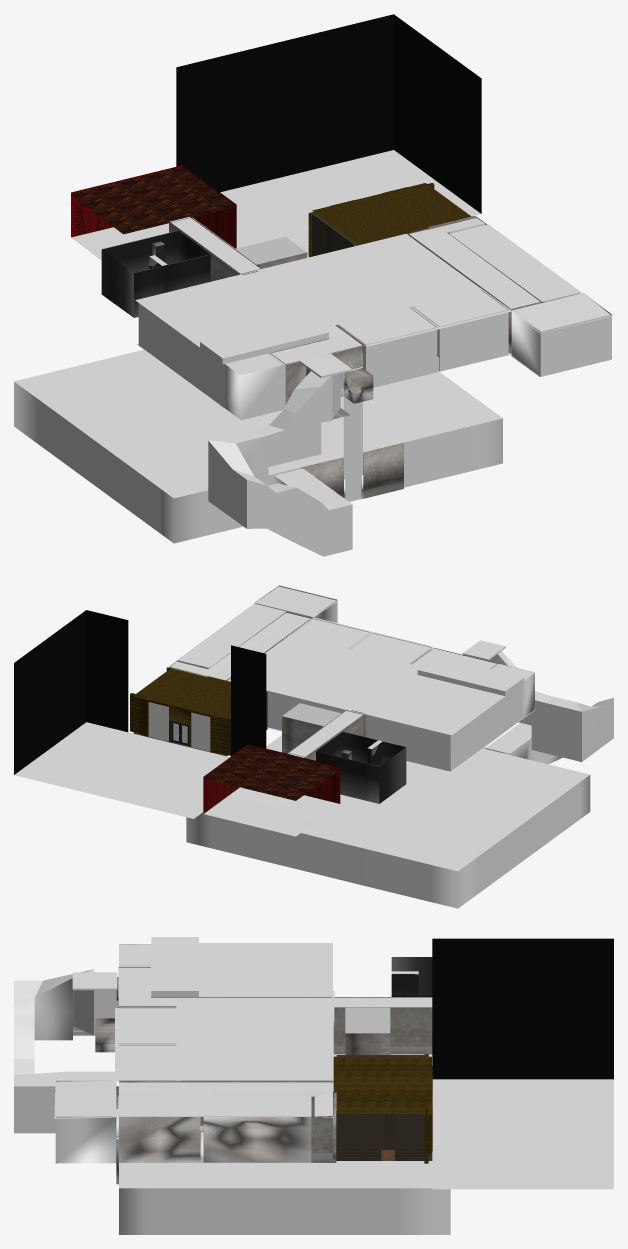
Rendered from SpookyMapHard.fbx.
The picture shows the model from 3 angles, top to bottom: view 1: azimuth 30°, elevation 25°; view 2: azimuth 150°, elevation 25°; view 3: azimuth 270°, elevation 25°; orthographic projection. The views are drawn at different scales.
Parts seen in each view (by area): view 1: Plane.015, Plane.056, Plane.058, Plane.024, Plane.001, Plane.025, Plane.031, Plane.036, Plane.018, Plane.021, Plane.022, Plane.057 (+8 smaller); view 2: Plane.015, Plane.056, Plane.058, Plane.024, Plane.001, Plane.025, Plane.035, Plane.031, Plane.036, Plane.018, Plane.021, Plane.026 (+7 smaller); view 3: Plane.015, Plane.024, Plane.056, Plane.001, Plane.025, Plane.058, Plane.018, Plane.021, Plane.026, Plane.022, Plane.023, Plane.057 (+6 smaller).
Boxes of the visible parts, x1,y1,x2,y2 form: Plane.015: (176,14,481,257); Plane.056: (14,375,502,556); Plane.058: (14,350,502,498); Plane.024: (136,196,611,420); Plane.001: (257,234,481,325); Plane.025: (135,274,328,364); Plane.031: (101,230,210,317); Plane.036: (71,167,236,234); Plane.018: (312,183,471,244); Plane.021: (337,288,511,346); Plane.022: (170,217,363,365); Plane.057: (208,371,352,510); Plane.015: (14,610,267,818); Plane.056: (186,654,613,908); Plane.058: (266,735,589,871); Plane.024: (168,585,535,772); Plane.001: (227,635,412,710); Plane.025: (364,656,524,735); Plane.035: (203,744,341,836); Plane.031: (316,731,406,803); Plane.036: (203,746,341,800); Plane.018: (133,668,230,718); Plane.021: (289,617,433,663); Plane.026: (177,603,286,667); Plane.015: (336,938,613,1189); Plane.024: (55,944,432,1163); Plane.056: (14,978,450,1234); Plane.001: (176,1005,333,1080); Plane.025: (151,937,332,996); Plane.058: (119,1054,432,1188); Plane.018: (333,1056,431,1114); Plane.021: (115,1008,180,1081); Plane.026: (118,1096,311,1116); Plane.022: (118,966,432,1007); Plane.023: (119,1082,333,1117); Plane.057: (14,969,114,1086).
Size of the model in its own units: 592 by 300 by 647.
